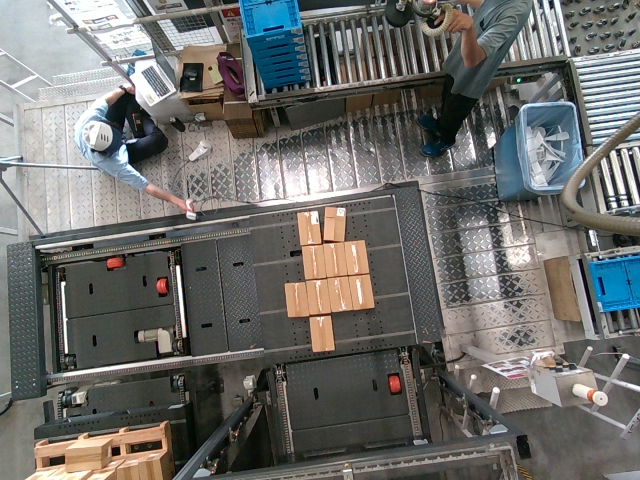box: (306, 315, 332, 351), (284, 282, 310, 316), (294, 209, 318, 245), (349, 275, 373, 309), (347, 237, 369, 274), (300, 246, 324, 279), (305, 280, 328, 314), (323, 244, 347, 276), (330, 275, 350, 313), (324, 205, 344, 241)
